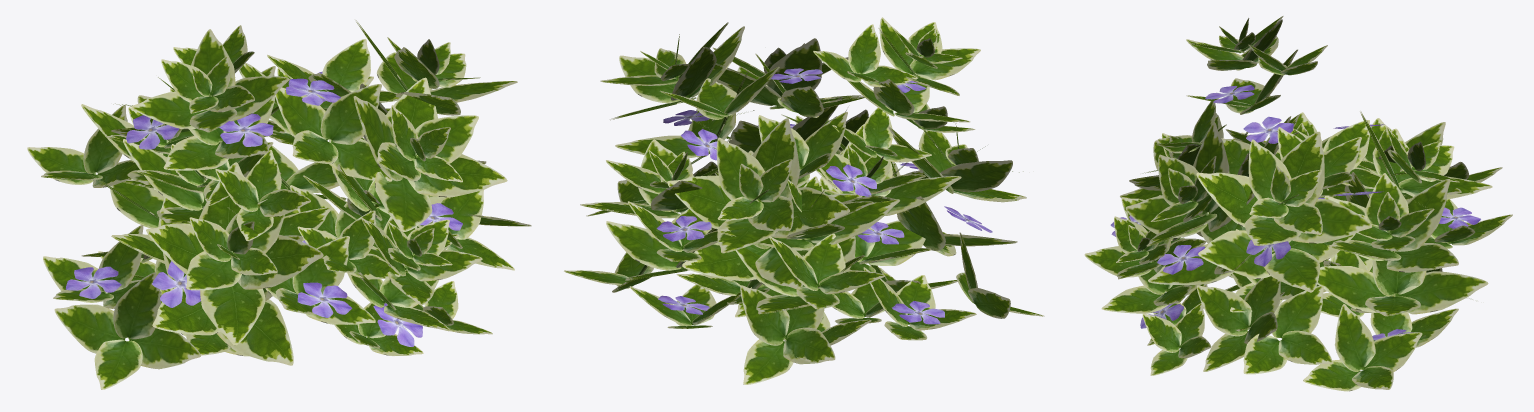
Rendered from tsurunichisou_nocolor.fbx.
The picture shows the model from 3 angles, left to right: view 1: azimuth 30°, elevation 25°; view 2: azimuth 150°, elevation 25°; view 3: azimuth 270°, elevation 25°; orthographic projection. The views are drawn at different scales.
Visible parts, largest first — view 1: 907.008, 907.003, 907.004, 907.005, 907.007, 907.025, 907.002, 907.006, 906.007, 906.004, 906.006, 906.001 (+5 smaller); view 2: 907.001, 907.004, 907.006, 907.002, 907.025, 907.007, 907.008, 907.003, 906, 906.011, 906.006, 906.010 (+5 smaller); view 3: 907.006, 907.007, 907.003, 907.005, 907.001, 907.004, 907.002, 907.008, 906.002, 906.003, 907.025, 906.008 (+2 smaller).
Part boxes in pixels (<box>): 907.008: <box>54,162,375,389</box>; 907.003: <box>275,77,514,278</box>; 907.004: <box>131,25,310,240</box>; 907.005: <box>297,210,492,355</box>; 907.007: <box>267,20,531,226</box>; 907.025: <box>43,139,331,308</box>; 907.002: <box>27,104,298,280</box>; 907.006: <box>170,62,390,210</box>; 906.007: <box>297,282,352,317</box>; 906.004: <box>152,261,200,307</box>; 906.006: <box>65,266,121,298</box>; 906.001: <box>219,113,273,146</box>; 907.001: <box>667,112,862,384</box>; 907.004: <box>813,17,980,162</box>; 907.006: <box>564,139,740,328</box>; 907.002: <box>677,176,899,362</box>; 907.025: <box>802,124,976,340</box>; 907.007: <box>586,22,779,216</box>; 907.008: <box>870,123,1044,318</box>; 907.003: <box>693,38,864,176</box>; 906: <box>826,164,876,196</box>; 906.011: <box>656,216,711,241</box>; 906.006: <box>892,301,944,324</box>; 906.010: <box>681,129,717,160</box>; 907.006: <box>1303,173,1512,391</box>; 907.007: <box>1196,127,1371,374</box>; 907.003: <box>1125,116,1291,371</box>; 907.005: <box>1084,195,1284,375</box>; 907.001: <box>1279,111,1492,299</box>; 907.004: <box>1156,16,1327,153</box>; 907.002: <box>1321,118,1502,317</box>; 907.008: <box>1120,113,1248,291</box>; 906.002: <box>1157,245,1205,274</box>; 906.003: <box>1243,116,1293,143</box>; 907.025: <box>1241,112,1353,292</box>; 906.008: <box>1246,239,1290,266</box>.
Size of the model in its own units: 42.13 by 27.4 by 38.89.
Materials: 2 (2 with a texture image).
